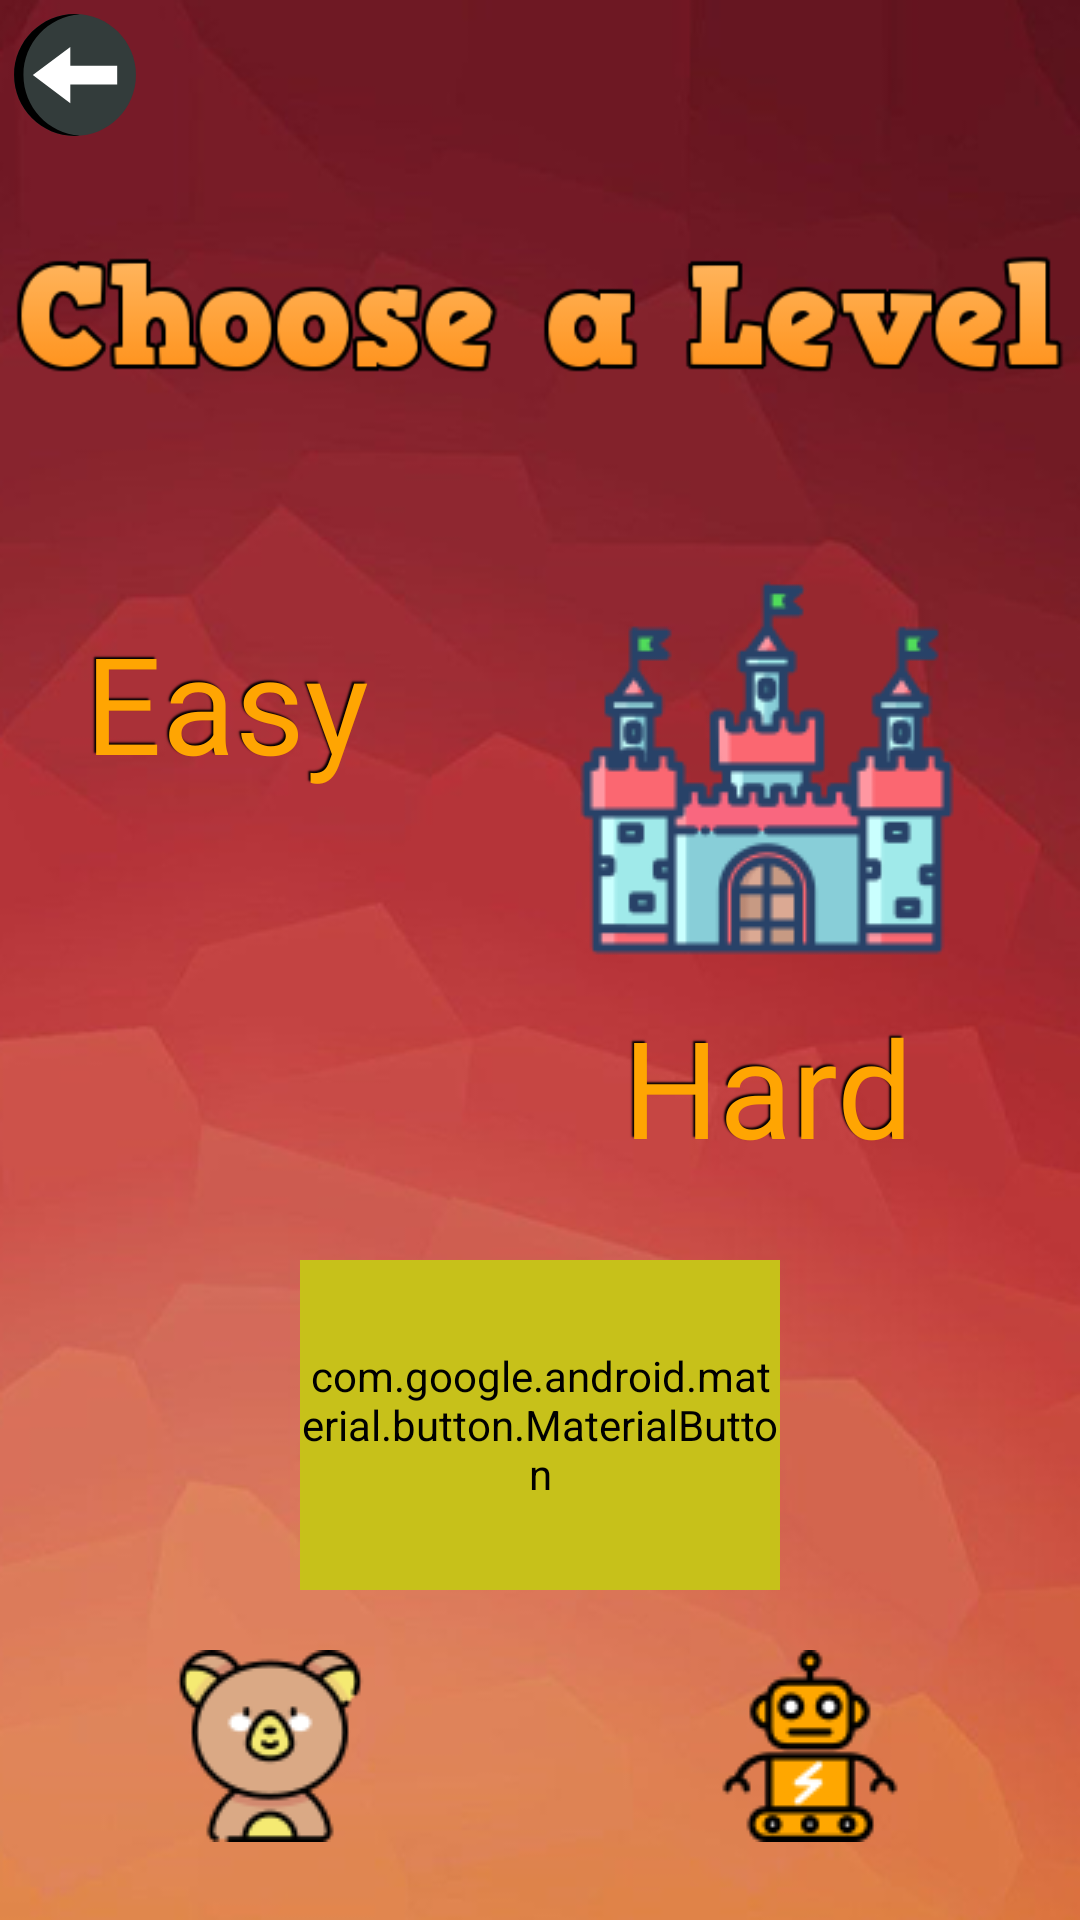

Locate icon controls on the screen. Image size 1080px x 1920px, boxes as (x1, y1, x2, y2).
back: (14, 14, 136, 136)
bear: (178, 1650, 361, 1842)
